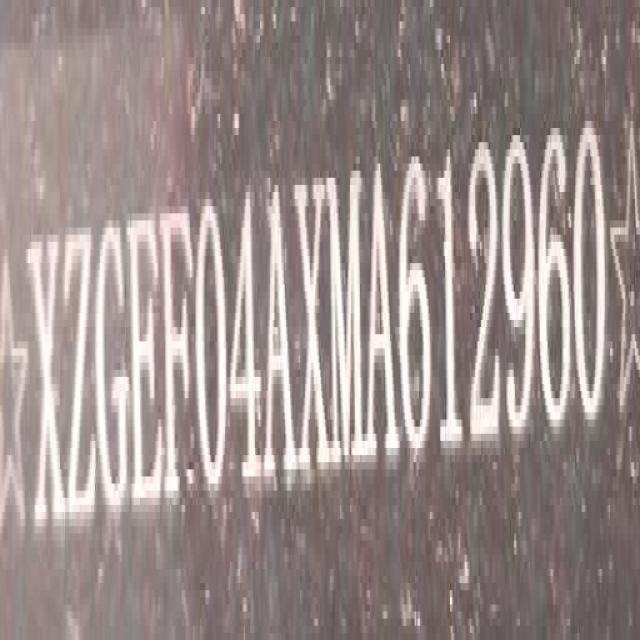0: (197, 192, 231, 500), (575, 119, 607, 426)
1: (437, 151, 462, 455)
2: (468, 143, 502, 451)
4: (229, 185, 263, 498)
6: (399, 152, 435, 463), (540, 123, 574, 434)
9: (506, 138, 538, 444)
A: (365, 160, 398, 468), (265, 168, 295, 492)
E: (131, 205, 164, 514)
F: (163, 199, 194, 510)
G: (97, 217, 129, 521)
M: (326, 157, 366, 484)
X: (294, 168, 328, 488), (34, 224, 66, 535)
Z: (64, 221, 97, 528)
